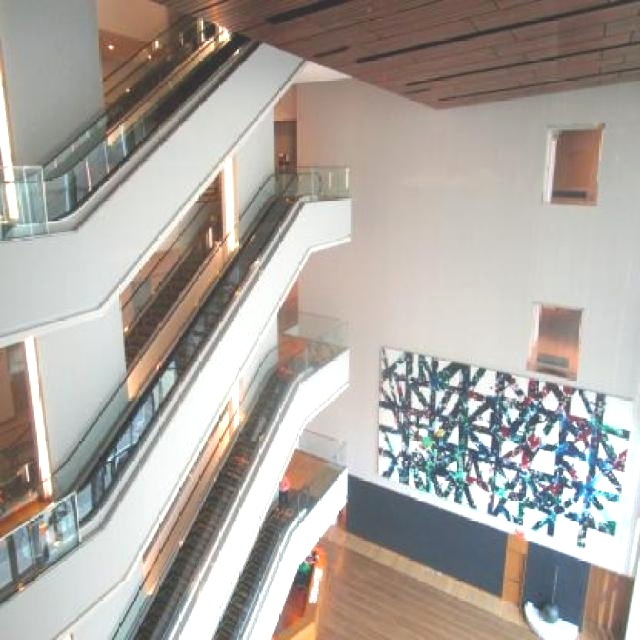stair: (71, 189, 292, 511), (132, 361, 306, 640), (214, 489, 317, 640)
